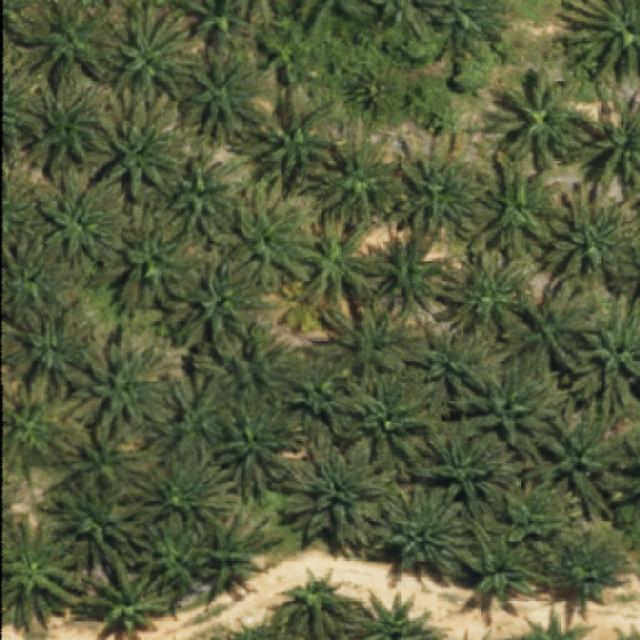Kelapa_Sawit: (282, 434, 401, 557), (72, 330, 180, 441), (370, 482, 479, 586), (94, 86, 188, 206), (44, 475, 147, 583), (218, 178, 319, 288), (541, 408, 636, 524), (317, 294, 428, 392), (488, 68, 592, 172), (435, 246, 543, 343), (543, 179, 640, 286), (472, 149, 568, 257), (461, 367, 572, 459), (133, 447, 244, 539), (211, 402, 307, 506), (294, 208, 384, 317), (316, 118, 401, 230), (193, 320, 309, 402), (364, 221, 456, 324), (517, 272, 608, 376), (5, 298, 100, 397), (349, 366, 436, 474), (36, 172, 126, 274), (191, 501, 284, 599), (416, 432, 522, 517), (392, 145, 483, 244), (172, 258, 265, 352), (254, 88, 340, 189), (182, 44, 267, 144), (74, 551, 168, 640), (415, 316, 510, 404), (111, 5, 198, 100), (25, 79, 107, 179), (31, 0, 117, 94), (165, 144, 241, 247), (61, 416, 153, 501), (157, 367, 235, 465), (114, 215, 188, 318), (498, 479, 588, 559), (456, 520, 538, 602), (138, 518, 217, 600), (547, 538, 628, 610), (281, 368, 362, 437), (278, 572, 358, 639), (347, 58, 405, 114), (280, 279, 334, 336)
